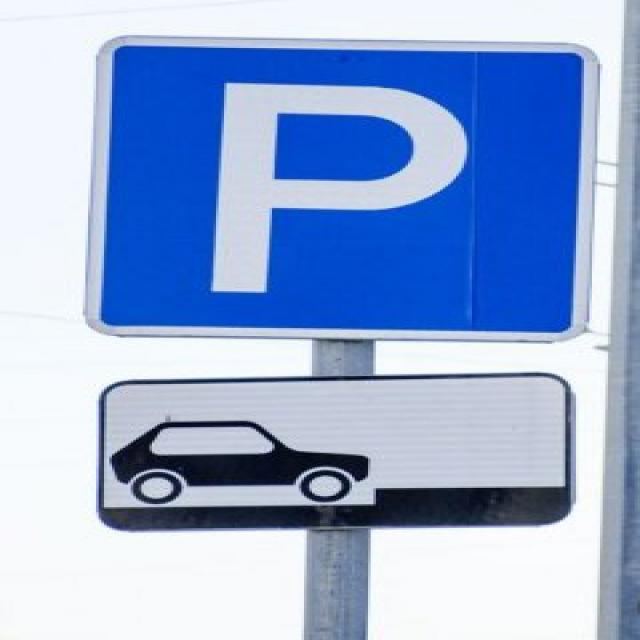parking: (92, 29, 607, 352)
